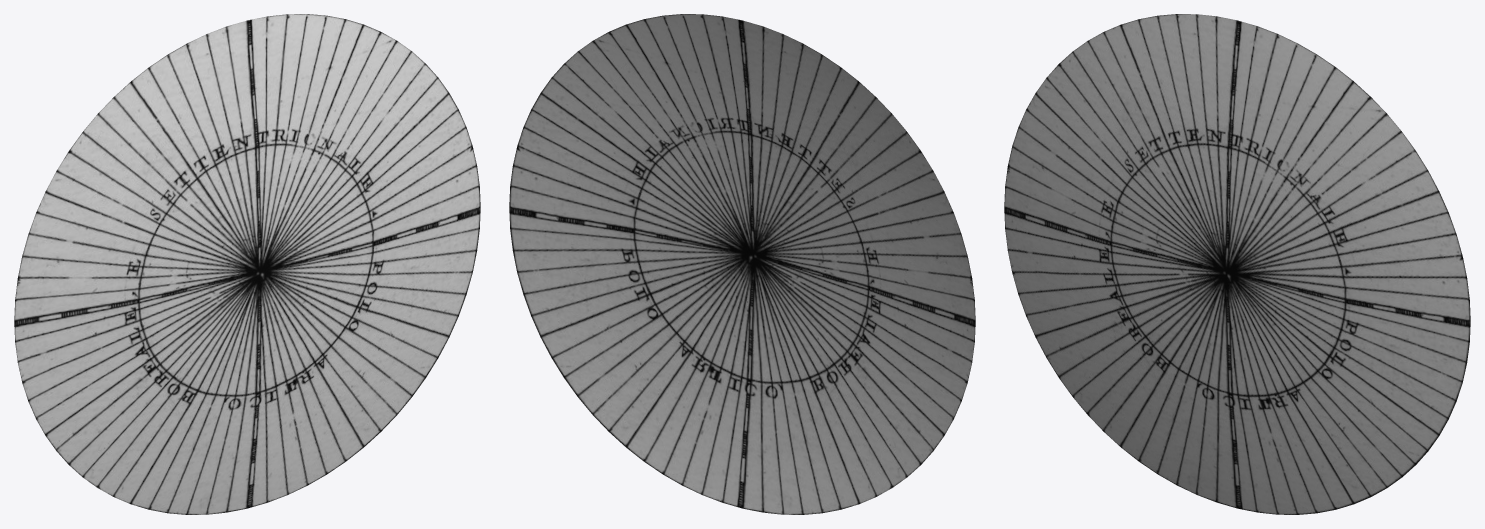
File: 1696_Coronelli_Earth_top.obj
3 views of the same model, side by side, from view 1: azimuth 30°, elevation 25°; view 2: azimuth 150°, elevation 25°; view 3: azimuth 330°, elevation 25° (orthographic).
Visible parts, largest first — view 1: Material_0; view 2: Material_0; view 3: Material_0.
Part boxes in pixels (left/top/right/bottom): Material_0: left=14, top=14, right=480, bottom=514; Material_0: left=509, top=14, right=975, bottom=514; Material_0: left=1004, top=14, right=1470, bottom=514.
Size of the model in its own units: 0.0834 by 0.0834 by 0.00365.
Materials: 1 (1 with a texture image).
